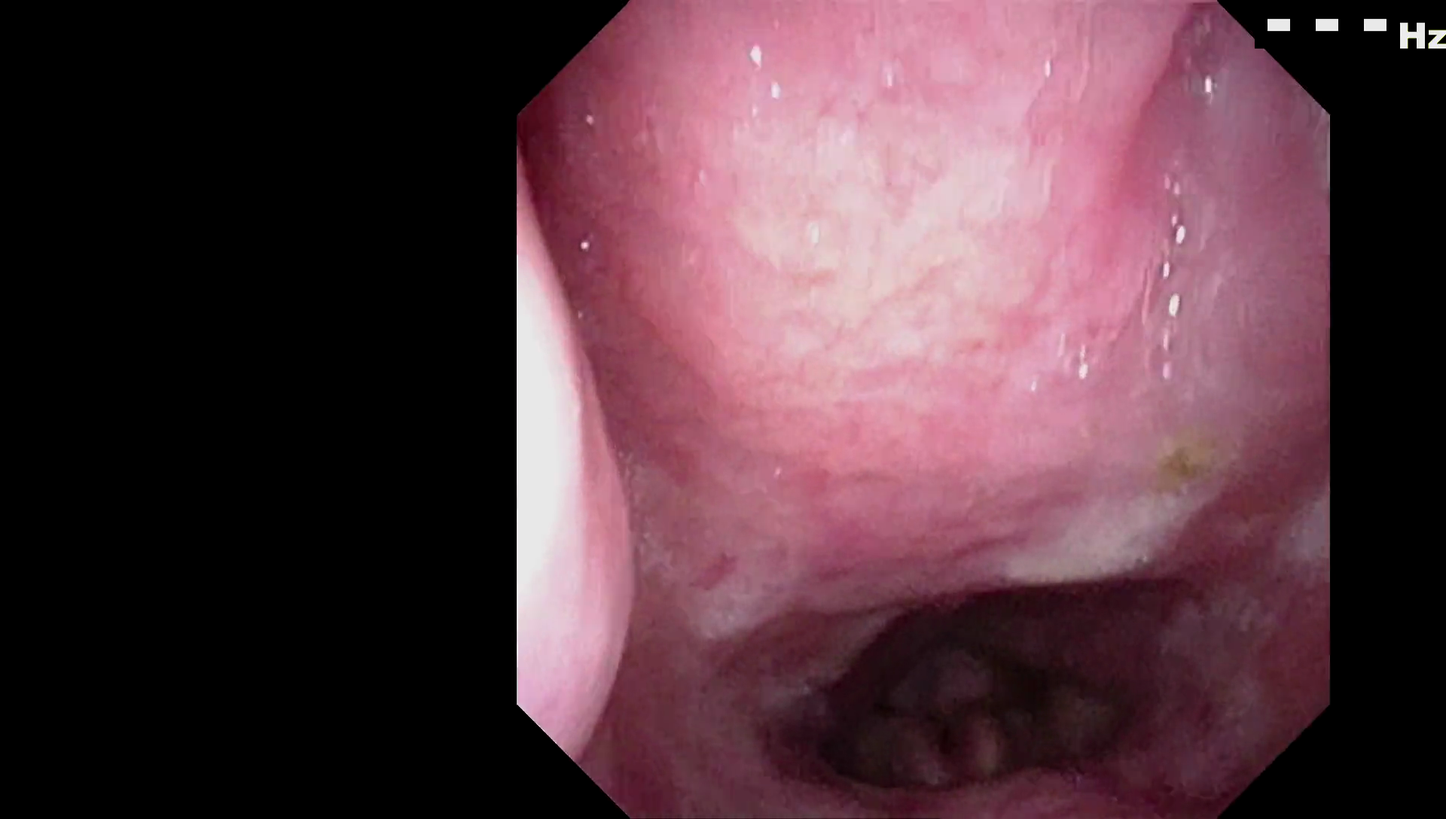close_wall: (600, 31, 1183, 459), (526, 174, 636, 788)
next: (918, 577, 1108, 753)
